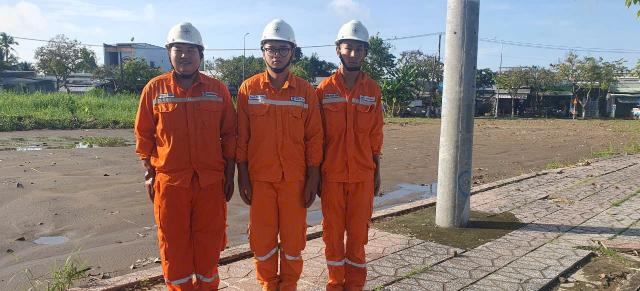gloves: (133, 153, 173, 203), (358, 147, 394, 198), (292, 159, 321, 211), (229, 154, 258, 204), (217, 147, 236, 208), (309, 159, 331, 201)
helmet: (163, 18, 214, 54), (326, 11, 373, 50), (263, 17, 299, 48)
